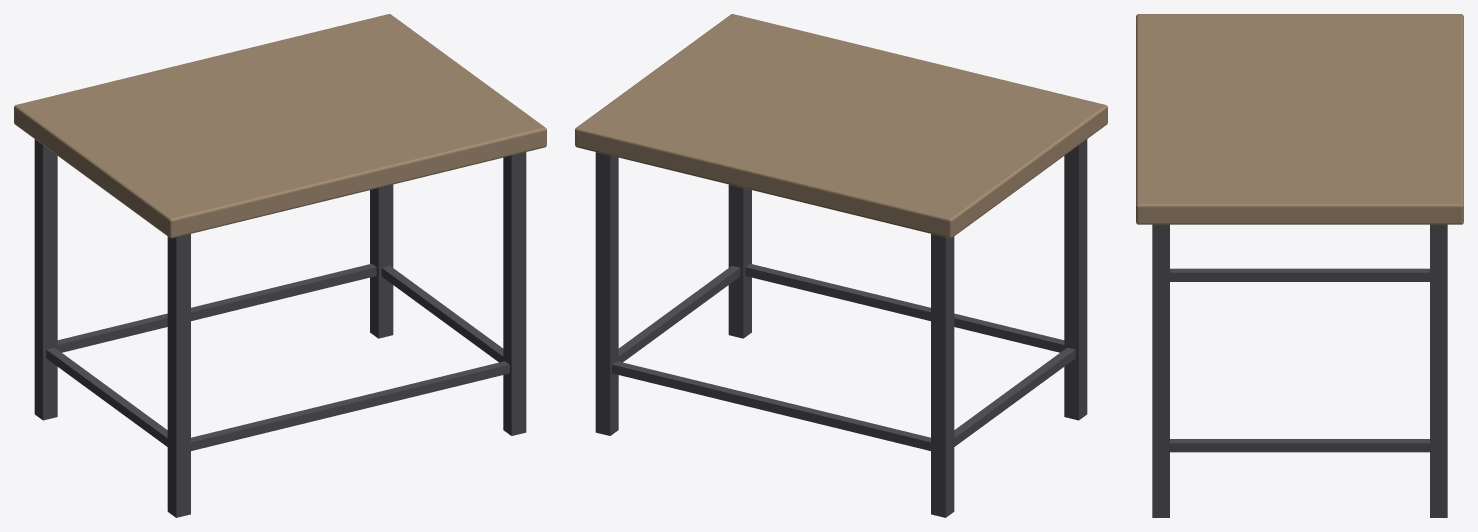
File: table.glb
3 renders of one model, left to right at view 1: azimuth 30°, elevation 25°; view 2: azimuth 150°, elevation 25°; view 3: azimuth 270°, elevation 25°, orthographic. The views are drawn at different scales.
Visible parts, largest first — view 1: Table_Top, Table, Table_Brace_Front, Table_Brace_Back, Table_Brace_Right, Table_Brace_Left; view 2: Table_Top, Table, Table_Brace_Back, Table_Brace_Front, Table_Brace_Right, Table_Brace_Left; view 3: Table_Top, Table, Table_Brace_Left, Table_Brace_Right.
Boxes of the visible parts, x1,y1,x2,y2 form: Table_Top: (14,14,546,238); Table: (34,139,526,517); Table_Brace_Front: (191,361,509,450); Table_Brace_Back: (57,263,376,352); Table_Brace_Right: (381,266,503,362); Table_Brace_Left: (46,347,167,446); Table_Top: (575,14,1107,238); Table: (595,139,1087,517); Table_Brace_Back: (612,361,930,450); Table_Brace_Front: (745,263,1064,352); Table_Brace_Right: (618,266,740,362); Table_Brace_Left: (954,347,1075,446); Table_Top: (1136,14,1463,224); Table: (1152,224,1447,517); Table_Brace_Left: (1170,268,1429,281); Table_Brace_Right: (1170,439,1429,452).
Bounding box in the file's own units: 0.9 × 0.7 × 0.65.
